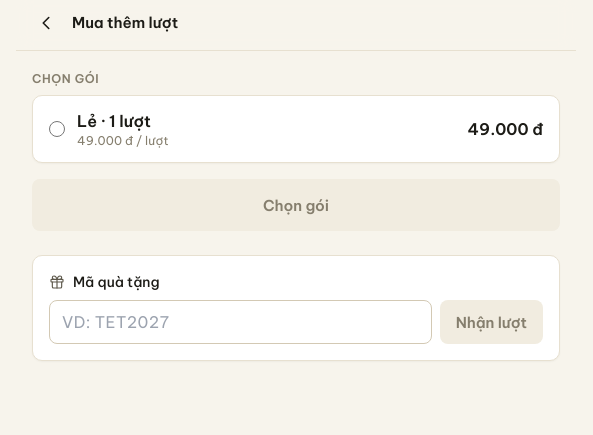
it: Buy › explains when payments are not configured
Click the radio button labelled "Lẻ · 1 lượt 49.000 đ / lượt 49.000 đ": x=57, y=129 [49,121,65,137]
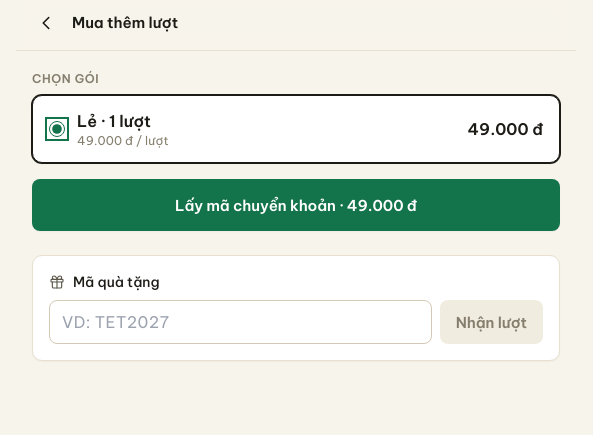
Click the button "Lấy mã chuyển khoản · 49.000 đ": x=296, y=205 [32,179,560,231]
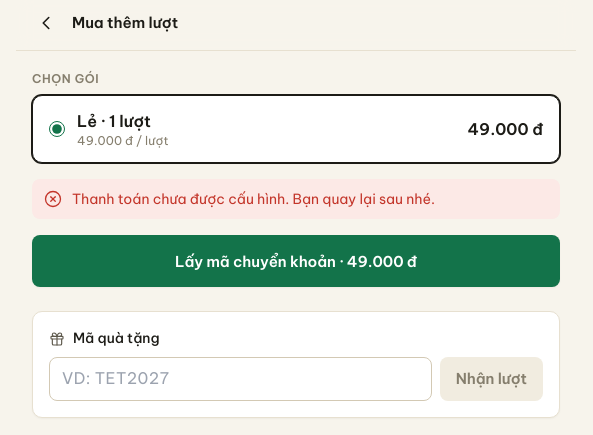
Expected: the text "Thanh toán chưa được cấu hình. Bạn quay lại sau nhé." is shown, [72,190,435,208]
